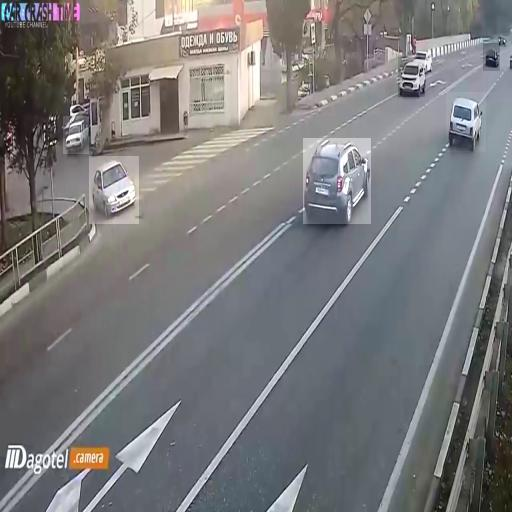小汽车: (303, 138, 371, 224), (89, 156, 139, 224), (446, 92, 486, 152), (398, 57, 425, 97), (63, 116, 89, 154), (483, 43, 500, 71)
